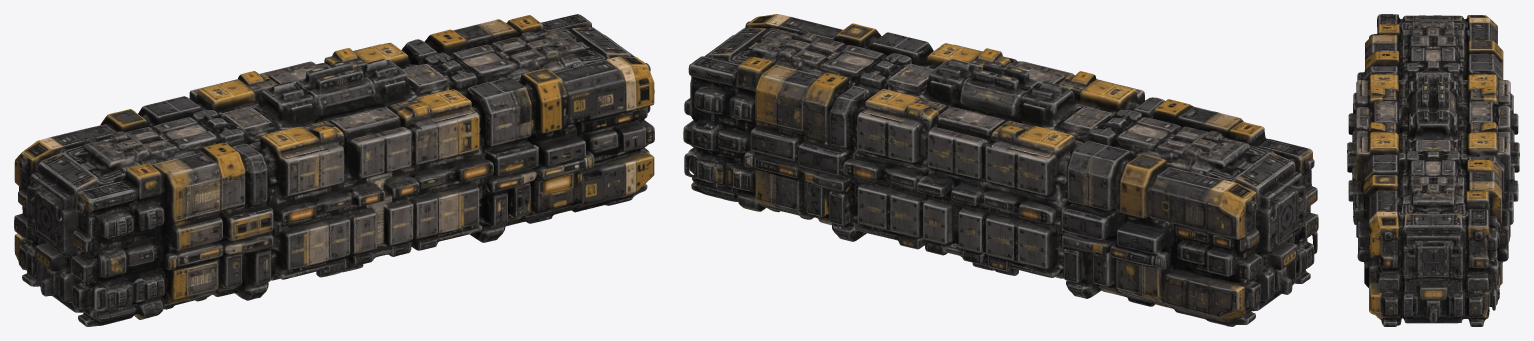
The model's file is heavyCargo.glb.
3 views of the same model, side by side, from view 1: azimuth 30°, elevation 25°; view 2: azimuth 150°, elevation 25°; view 3: azimuth 270°, elevation 25° (orthographic). The views are drawn at different scales.
Size of the model in its own units: 1.9 by 0.614 by 0.6252.
1 material, 1 textured.
